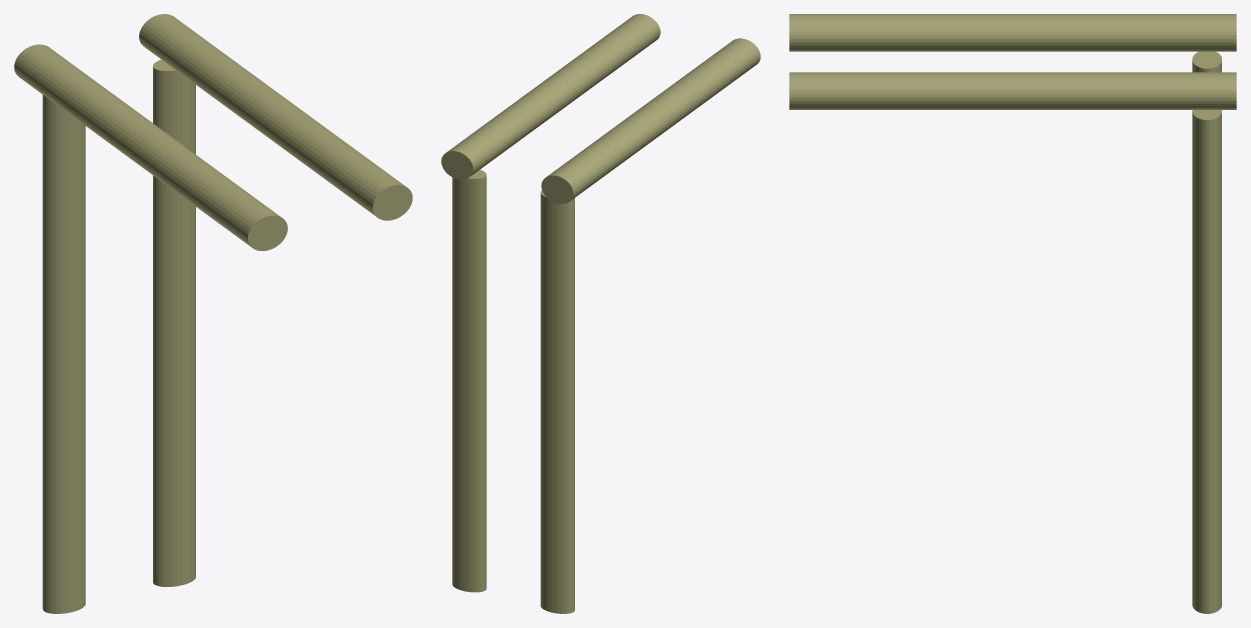
File: dome-piping.dae
3 renders of one model, left to right at view 1: azimuth 30°, elevation 25°; view 2: azimuth 150°, elevation 25°; view 3: azimuth 270°, elevation 25°, orthographic. The views are drawn at different scales.
Visible parts, largest first — view 1: Cylinder_021, Cylinder_015, Cylinder_023, Cylinder_022; view 2: Cylinder_015, Cylinder_021, Cylinder_022, Cylinder_023; view 3: Cylinder_023, Cylinder_022, Cylinder_015, Cylinder_021.
Boxes of the visible parts, left/top/right/bottom form: Cylinder_021: left=42, top=95, right=85, bottom=613; Cylinder_015: left=153, top=59, right=195, bottom=586; Cylinder_023: left=14, top=44, right=287, bottom=251; Cylinder_022: left=139, top=14, right=412, bottom=220; Cylinder_015: left=452, top=169, right=486, bottom=592; Cylinder_021: left=540, top=190, right=574, bottom=613; Cylinder_022: left=441, top=14, right=660, bottom=179; Cylinder_023: left=541, top=38, right=760, bottom=203; Cylinder_023: left=789, top=14, right=1236, bottom=51; Cylinder_022: left=789, top=72, right=1236, bottom=109; Cylinder_015: left=1192, top=110, right=1221, bottom=613; Cylinder_021: left=1192, top=51, right=1221, bottom=72.
Bounding box in the file's own units: 0.1893 × 0.4644 × 0.6072.
